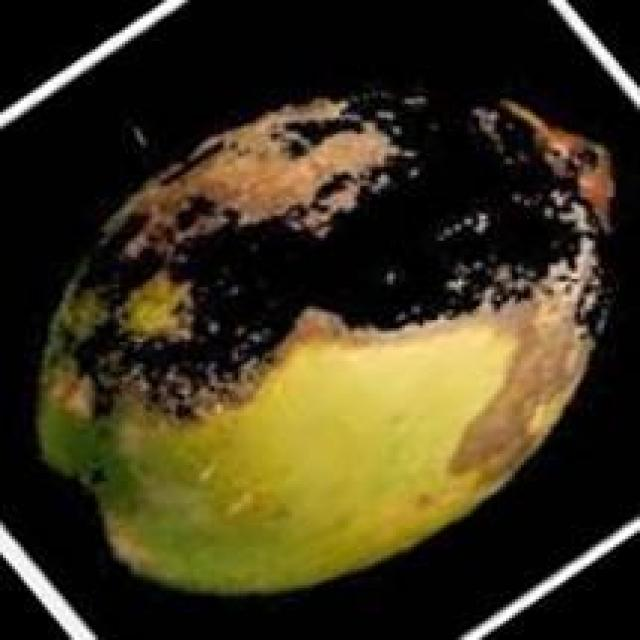damaged: (33, 82, 631, 610)
